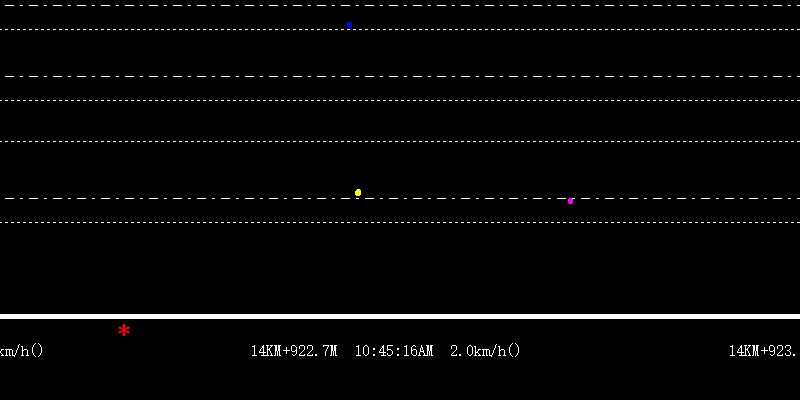face_up: (346, 17, 353, 32)
star: (116, 322, 130, 337)
